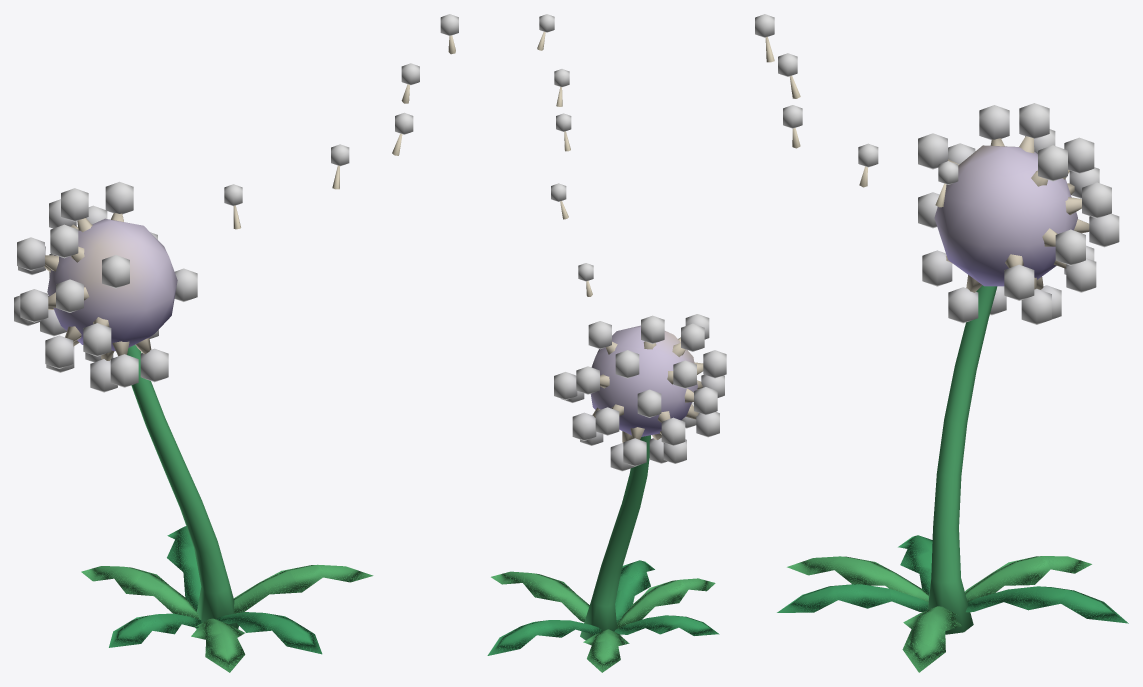
The model's file is verdant_tree_dandelion_b.glb.
3 renders of one model, left to right at view 1: azimuth 30°, elevation 25°; view 2: azimuth 150°, elevation 25°; view 3: azimuth 270°, elevation 25°, orthographic. The views are drawn at different scales.
Visible parts, largest first — view 1: verdant_tree_dandelion_b; view 2: verdant_tree_dandelion_b; view 3: verdant_tree_dandelion_b.
Part boxes in pixels (<box>): verdant_tree_dandelion_b: <box>14,14,458,672</box>; verdant_tree_dandelion_b: <box>487,14,726,672</box>; verdant_tree_dandelion_b: <box>755,14,1128,672</box>.
Bounding box in the file's own units: 4.6 × 8.67 × 4.25.
